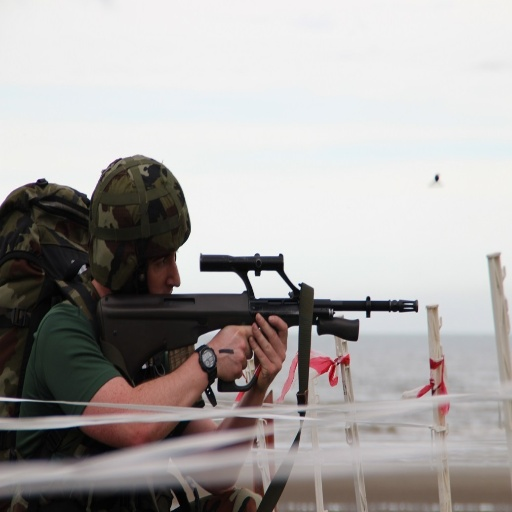hand: (247, 312, 288, 393), (206, 331, 254, 392)
